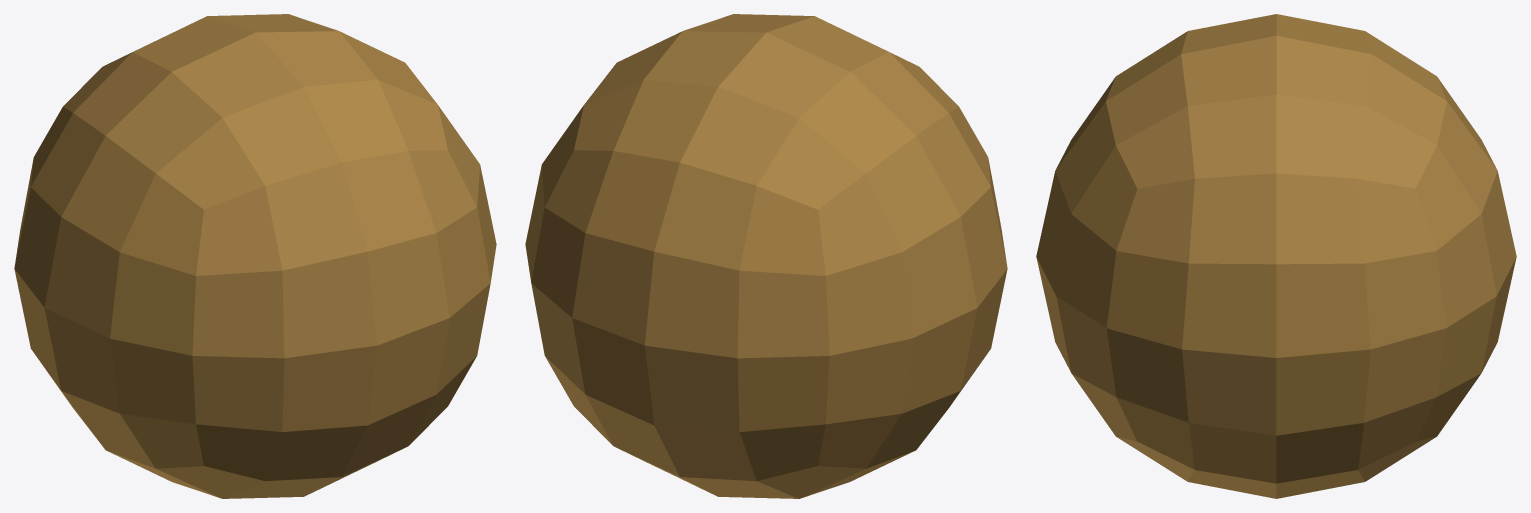
The model's file is SM_Env_Scale_Venus_01.fbx.
3 views of the same model, side by side, from view 1: azimuth 30°, elevation 25°; view 2: azimuth 150°, elevation 25°; view 3: azimuth 270°, elevation 25° (orthographic).
Parts seen in each view (by area): view 1: SM_Env_Scale_Venus_01; view 2: SM_Env_Scale_Venus_01; view 3: SM_Env_Scale_Venus_01.
Part boxes in pixels (x1,y1,x2,y2): SM_Env_Scale_Venus_01: [14, 14, 496, 498]; SM_Env_Scale_Venus_01: [525, 14, 1007, 498]; SM_Env_Scale_Venus_01: [1036, 14, 1516, 498].
Bounding box in the file's own units: 9.17 × 9.3 × 9.17.
